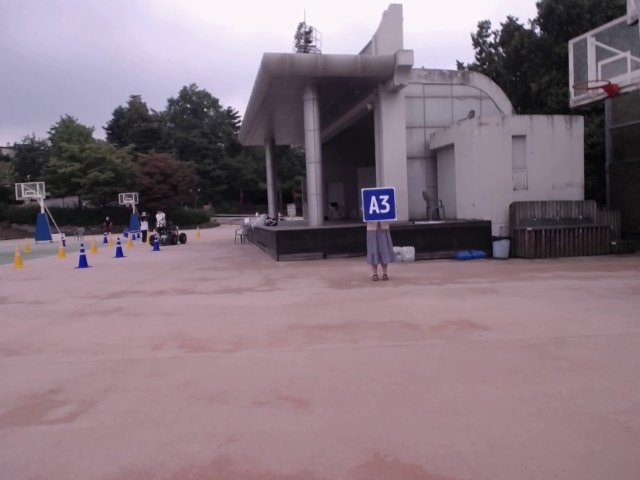delivery_a3: (362, 188, 397, 222)
